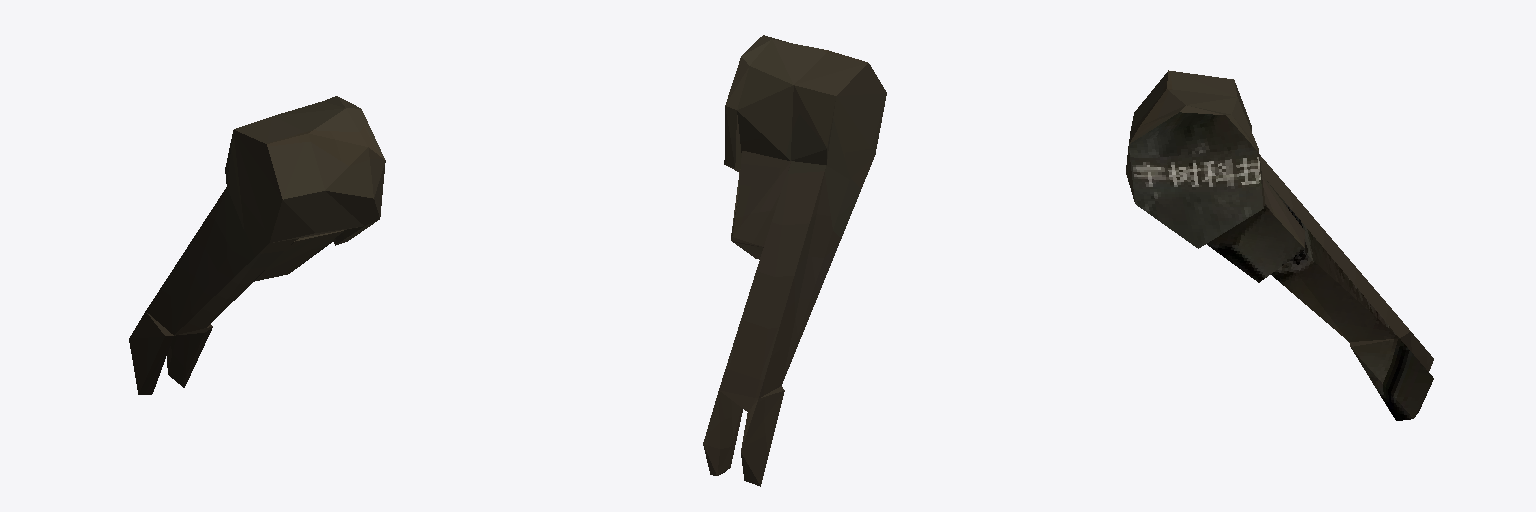
The picture shows the model from 3 angles: view 1: azimuth 30°, elevation 25°; view 2: azimuth 150°, elevation 25°; view 3: azimuth 270°, elevation 25°; orthographic projection.
Parts seen in each view (by area): view 1: EXP_OTL_-_EXP_OTL_FLA-1_EXP_OTL_FLA_FL2-1_median_joint_EXP_.000; view 2: EXP_OTL_-_EXP_OTL_FLA-1_EXP_OTL_FLA_FL2-1_median_joint_EXP_.000; view 3: EXP_OTL_-_EXP_OTL_FLA-1_EXP_OTL_FLA_FL2-1_median_joint_EXP_.000.
Boxes of the visible parts, <box> form: EXP_OTL_-_EXP_OTL_FLA-1_EXP_OTL_FLA_FL2-1_median_joint_EXP_.000: <box>129,96,385,394</box>; EXP_OTL_-_EXP_OTL_FLA-1_EXP_OTL_FLA_FL2-1_median_joint_EXP_.000: <box>703,35,886,486</box>; EXP_OTL_-_EXP_OTL_FLA-1_EXP_OTL_FLA_FL2-1_median_joint_EXP_.000: <box>1126,70,1433,420</box>.
Size of the model in its own units: 0.0879 by 0.261 by 0.2125.
1 materials, 1 textured.